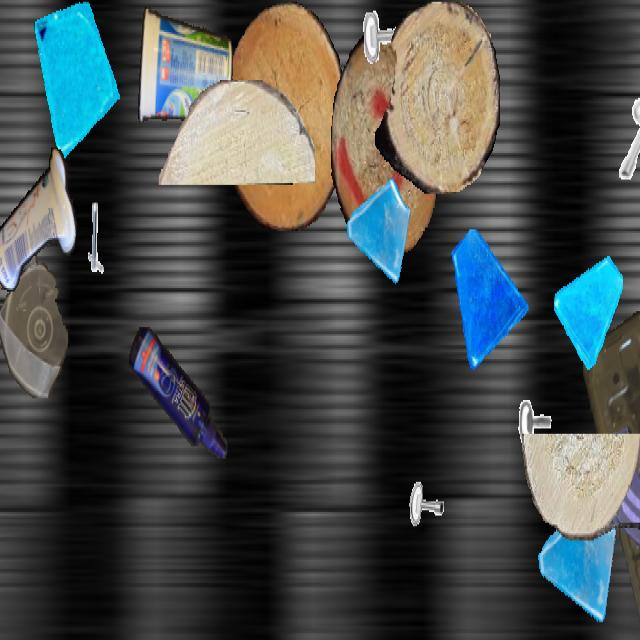glass: (33, 2, 125, 165), (536, 489, 620, 638), (449, 230, 529, 372), (345, 172, 413, 294), (554, 247, 622, 368), (590, 416, 640, 558)
metal: (357, 2, 417, 108), (403, 439, 455, 532), (65, 188, 115, 278), (516, 366, 562, 448), (615, 92, 640, 182), (0, 76, 4, 169)
plastic: (583, 265, 640, 638), (129, 327, 227, 459), (136, 2, 232, 126), (0, 144, 77, 297), (0, 240, 68, 396)
wood: (223, 2, 347, 229), (375, 2, 499, 194), (331, 36, 439, 252), (158, 80, 314, 183), (522, 434, 640, 540)
